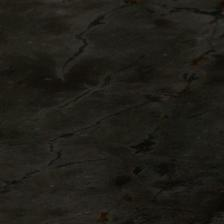Crack: (26, 0, 101, 104), (0, 21, 143, 73), (32, 0, 114, 75), (0, 32, 85, 83)
